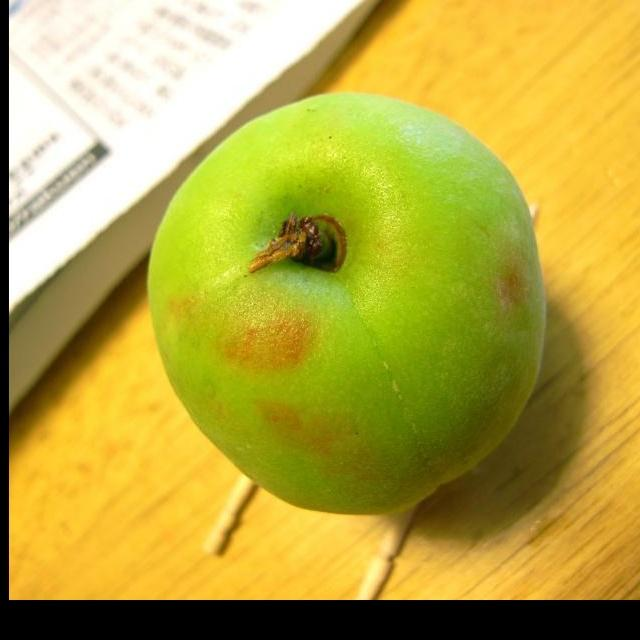green apple: (137, 89, 558, 521)
